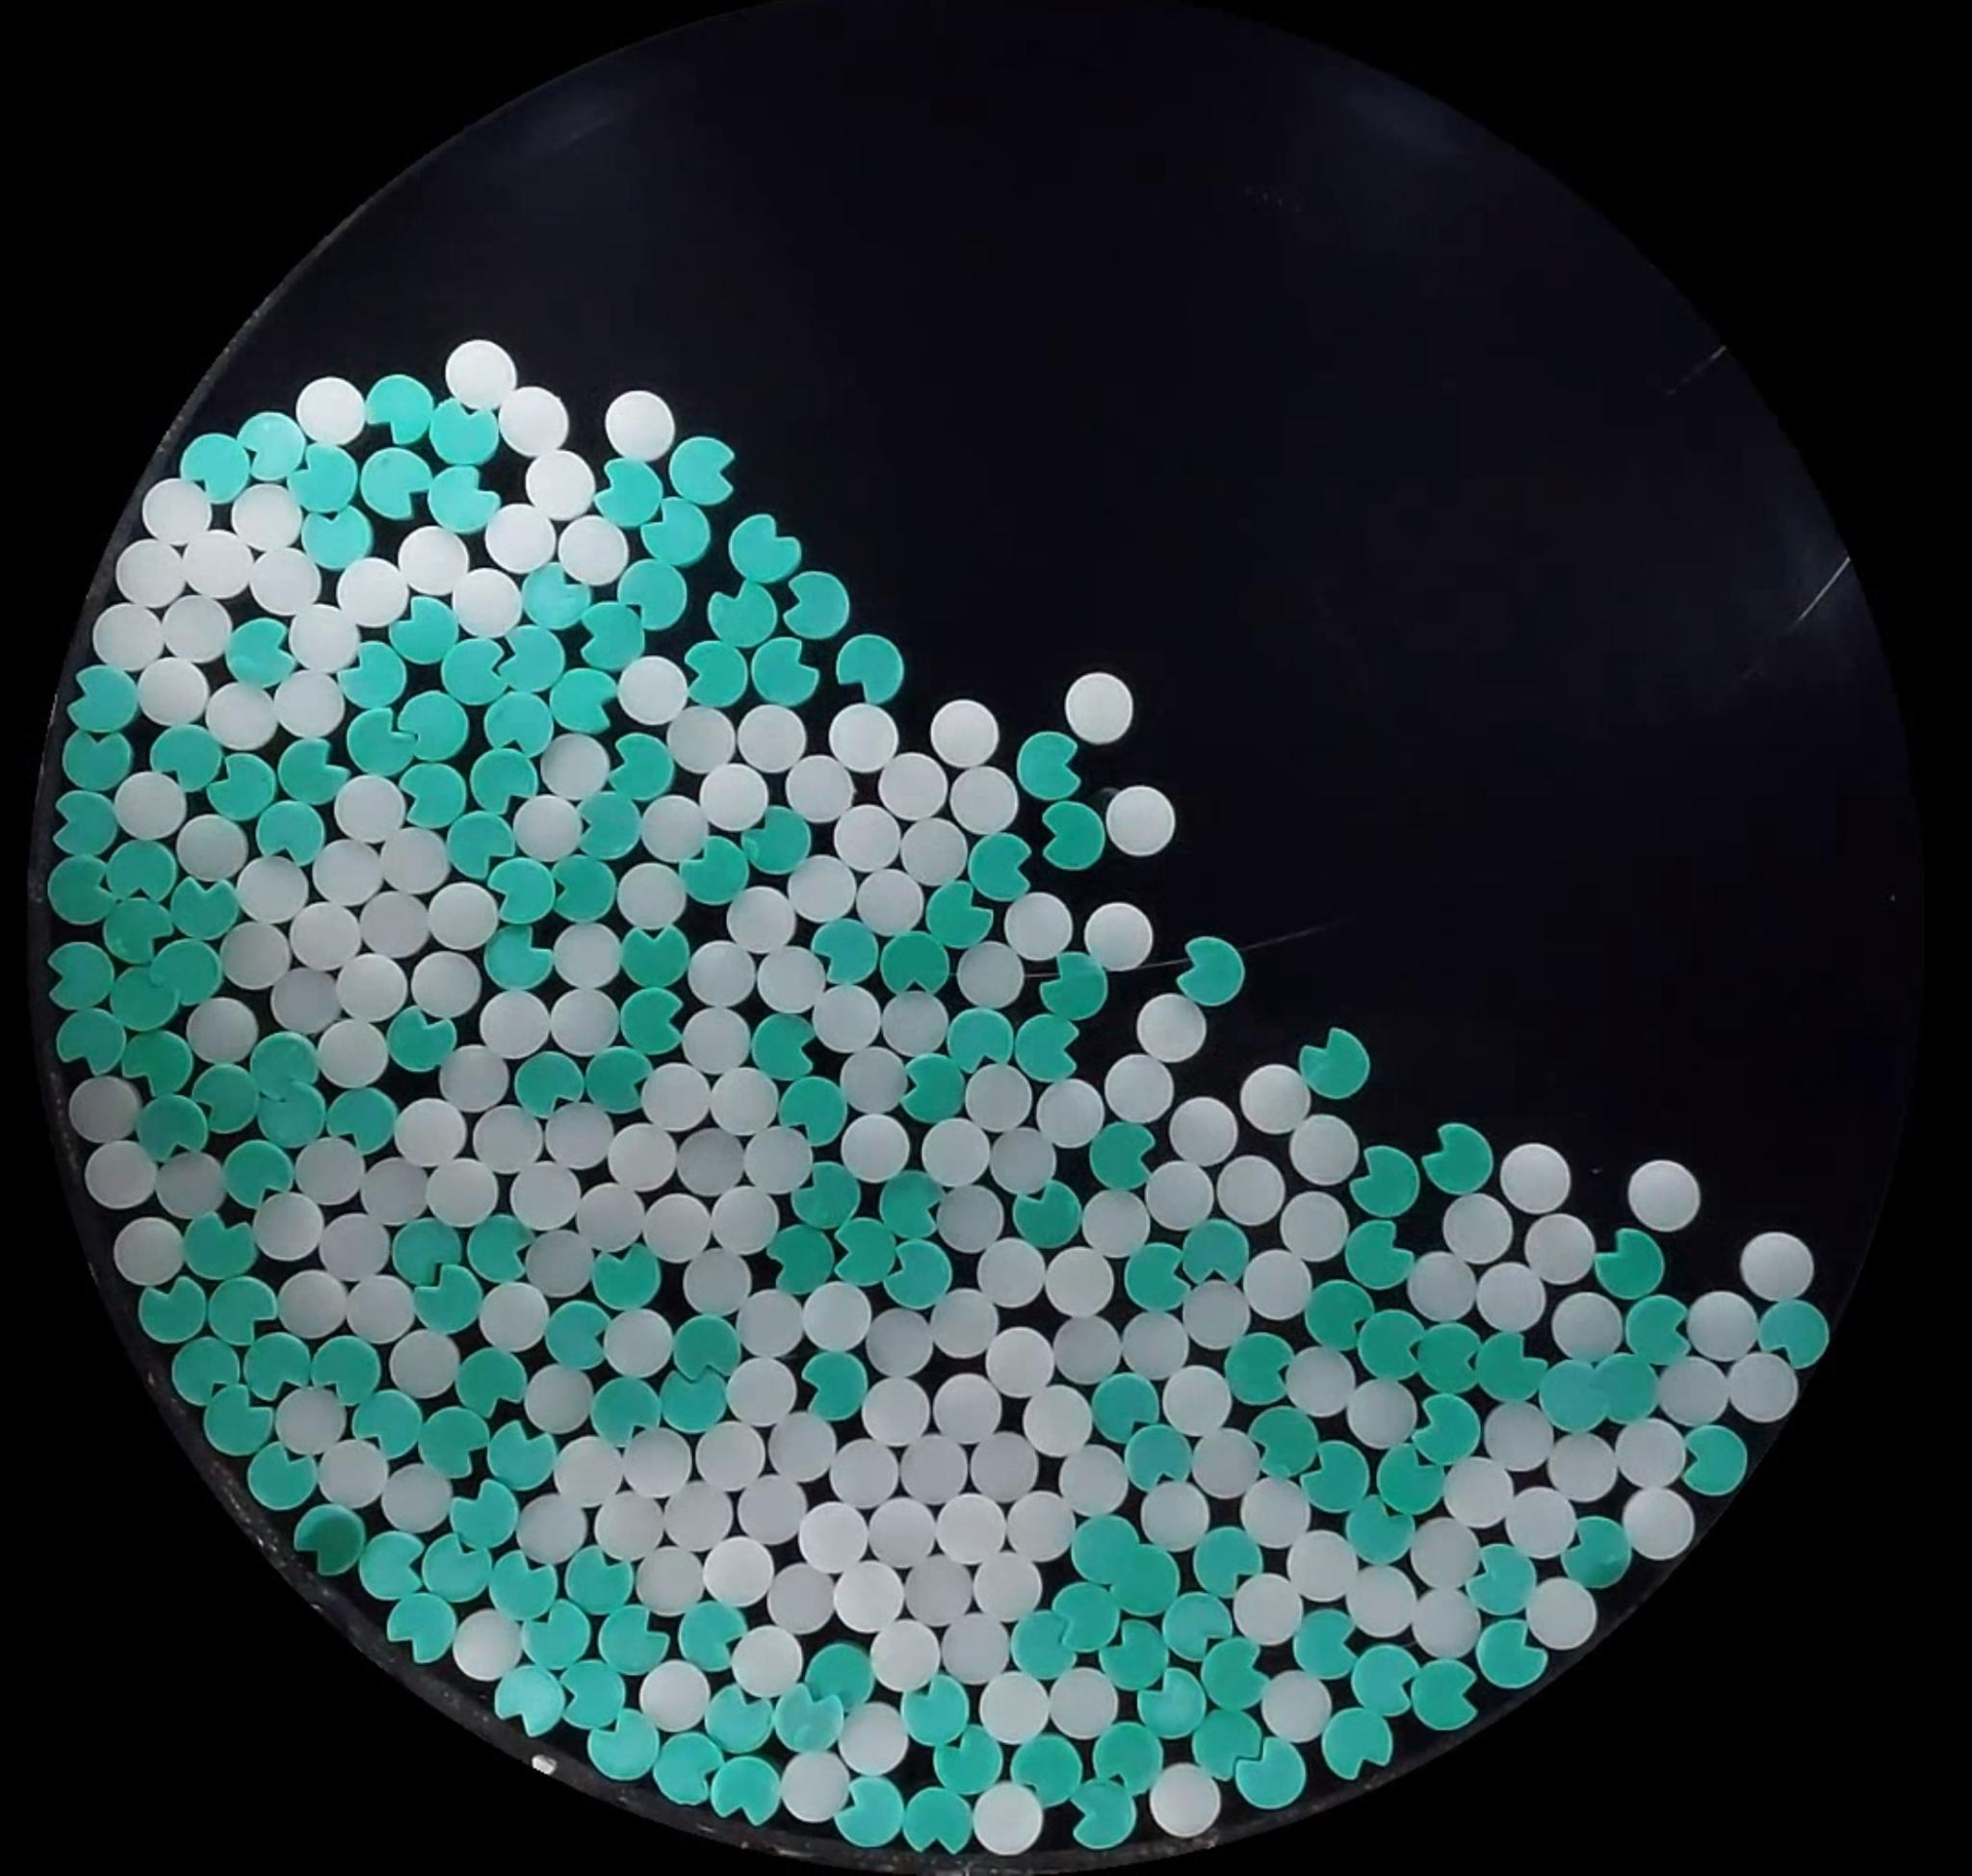no-convexa1: (241, 1027, 333, 1101), (1340, 1219, 1424, 1298), (1350, 1635, 1431, 1716), (1183, 1214, 1261, 1296), (352, 1522, 426, 1606), (935, 997, 1014, 1075), (1410, 1392, 1486, 1473), (1468, 1536, 1544, 1615), (166, 861, 239, 942), (463, 743, 539, 821), (303, 1332, 379, 1409), (1190, 1522, 1269, 1596), (375, 1217, 461, 1284), (1306, 1275, 1382, 1351), (1301, 1437, 1375, 1515), (586, 458, 666, 530), (884, 932, 963, 1004), (1120, 1423, 1199, 1496), (484, 1545, 567, 1614), (507, 1596, 590, 1665), (120, 1029, 195, 1103), (453, 1346, 528, 1420), (1016, 1011, 1092, 1085), (1116, 1240, 1192, 1314), (148, 722, 225, 794), (187, 1060, 257, 1140), (1349, 1488, 1419, 1568), (419, 1402, 493, 1476), (55, 1006, 129, 1080), (1349, 1145, 1423, 1219), (518, 560, 592, 634), (343, 1385, 417, 1459), (246, 1444, 320, 1518), (1294, 1603, 1368, 1677), (46, 941, 118, 1016), (1562, 1513, 1634, 1589), (1539, 1358, 1611, 1434), (104, 964, 181, 1034), (132, 1274, 210, 1344), (681, 824, 748, 905), (651, 1733, 725, 1806), (1248, 1406, 1321, 1480), (386, 1589, 458, 1663), (181, 1210, 254, 1284), (206, 1274, 278, 1348), (447, 1480, 519, 1554), (1232, 1737, 1305, 1811), (412, 1261, 484, 1335), (65, 664, 139, 736), (1757, 1296, 1831, 1369), (335, 643, 407, 717), (773, 1682, 845, 1756), (292, 1503, 366, 1575), (593, 1591, 666, 1665), (148, 935, 224, 1006), (201, 750, 278, 819), (669, 1312, 741, 1385), (326, 1085, 398, 1157), (618, 925, 690, 997), (137, 1092, 210, 1164), (1299, 1027, 1372, 1099), (590, 1374, 664, 1444), (1106, 1541, 1176, 1615), (544, 1293, 614, 1367), (202, 1383, 271, 1459), (1224, 1330, 1294, 1402), (1414, 1323, 1484, 1395), (493, 1665, 563, 1737), (586, 1710, 659, 1781), (1162, 1592, 1232, 1665), (616, 558, 688, 629), (1409, 1658, 1479, 1730), (1072, 1515, 1143, 1587), (1593, 1230, 1664, 1302), (180, 432, 252, 502), (1423, 1122, 1493, 1194), (1680, 1423, 1750, 1496), (278, 738, 350, 809), (255, 1080, 327, 1150), (465, 1210, 535, 1282), (1322, 1705, 1391, 1779), (220, 1140, 294, 1208), (833, 1781, 907, 1850), (637, 497, 711, 565), (884, 1170, 951, 1245), (563, 1547, 634, 1617), (46, 853, 116, 923), (419, 1533, 489, 1603), (676, 1599, 747, 1670), (778, 1075, 849, 1145), (361, 446, 431, 516), (704, 1684, 775, 1754), (486, 1422, 556, 1492), (1097, 1619, 1167, 1689), (289, 444, 359, 514), (396, 691, 467, 761), (741, 807, 812, 877), (1176, 935, 1247, 1006), (495, 625, 565, 696), (1475, 1619, 1546, 1689), (48, 789, 118, 860), (486, 858, 558, 927), (1623, 1291, 1692, 1363), (512, 1048, 585, 1117), (1194, 1705, 1262, 1777), (607, 733, 676, 805), (426, 465, 498, 534), (901, 1675, 970, 1747), (104, 837, 176, 905), (243, 1328, 312, 1400), (729, 516, 803, 583), (752, 1009, 817, 1085), (812, 918, 882, 986), (618, 985, 687, 1055), (924, 879, 995, 948), (1092, 1372, 1160, 1443), (549, 853, 618, 923), (556, 1659, 625, 1730), (799, 1351, 868, 1422), (659, 1367, 729, 1436), (398, 761, 468, 830), (1379, 1446, 1447, 1517), (428, 398, 498, 467), (1012, 1735, 1083, 1804), (548, 664, 618, 733), (710, 1756, 780, 1825), (389, 597, 460, 666), (1590, 1353, 1659, 1423), (1137, 1666, 1206, 1737), (364, 375, 435, 444), (764, 1222, 835, 1291), (1479, 1332, 1549, 1400), (893, 1052, 965, 1119), (255, 798, 324, 867), (585, 1045, 653, 1113), (1014, 1180, 1083, 1249), (882, 1238, 951, 1307), (104, 897, 173, 965), (576, 602, 644, 671), (224, 617, 292, 685), (710, 578, 778, 646), (785, 569, 854, 638), (903, 1786, 972, 1855), (836, 632, 905, 701), (590, 1245, 660, 1312), (447, 810, 514, 881), (484, 689, 555, 756), (347, 710, 417, 777), (750, 638, 820, 705), (1095, 1725, 1162, 1795), (236, 412, 306, 479), (967, 831, 1034, 900), (1088, 1122, 1155, 1191), (442, 636, 509, 705), (303, 504, 372, 571), (669, 439, 738, 506), (729, 513, 798, 580), (1055, 1589, 1122, 1658), (62, 728, 132, 793), (387, 1009, 458, 1075), (1069, 1783, 1136, 1850), (935, 1728, 1002, 1795), (681, 639, 748, 706), (1039, 801, 1106, 868), (806, 1643, 873, 1710), (1041, 955, 1109, 1020), (572, 793, 643, 856), (791, 1161, 863, 1222), (829, 1212, 889, 1286), (1363, 1304, 1423, 1377), (1016, 731, 1081, 798), (484, 930, 555, 992), (1201, 1645, 1271, 1703), (171, 1339, 232, 1402), (1019, 1619, 1074, 1680)
